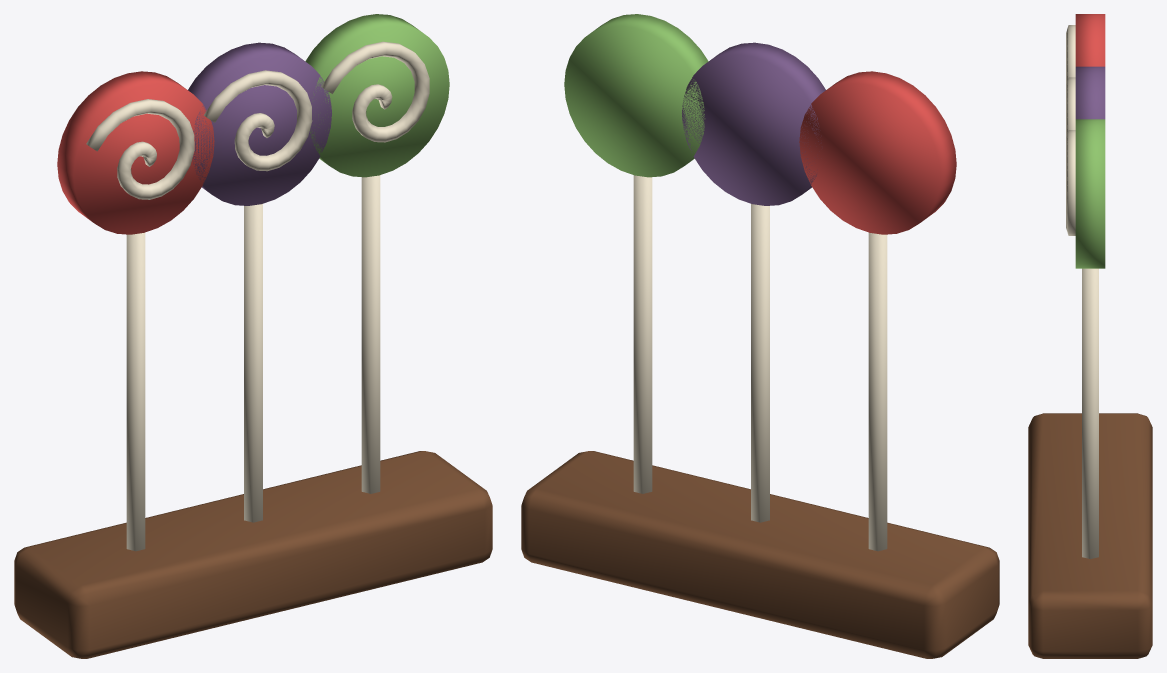
File: lollipop_set.glb
3 views of the same model, side by side, from view 1: azimuth 30°, elevation 25°; view 2: azimuth 150°, elevation 25°; view 3: azimuth 270°, elevation 25° (orthographic). The views are drawn at different scales.
Visible parts, largest first — view 1: LH_lollipop_set; view 2: LH_lollipop_set; view 3: LH_lollipop_set.
Part boxes in pixels (x1=…): LH_lollipop_set: x1=14, y1=14, x2=492, y2=658; LH_lollipop_set: x1=521, y1=14, x2=999, y2=658; LH_lollipop_set: x1=1028, y1=14, x2=1152, y2=658.
Bounding box in the file's own units: 0.18 × 0.22 × 0.05.
